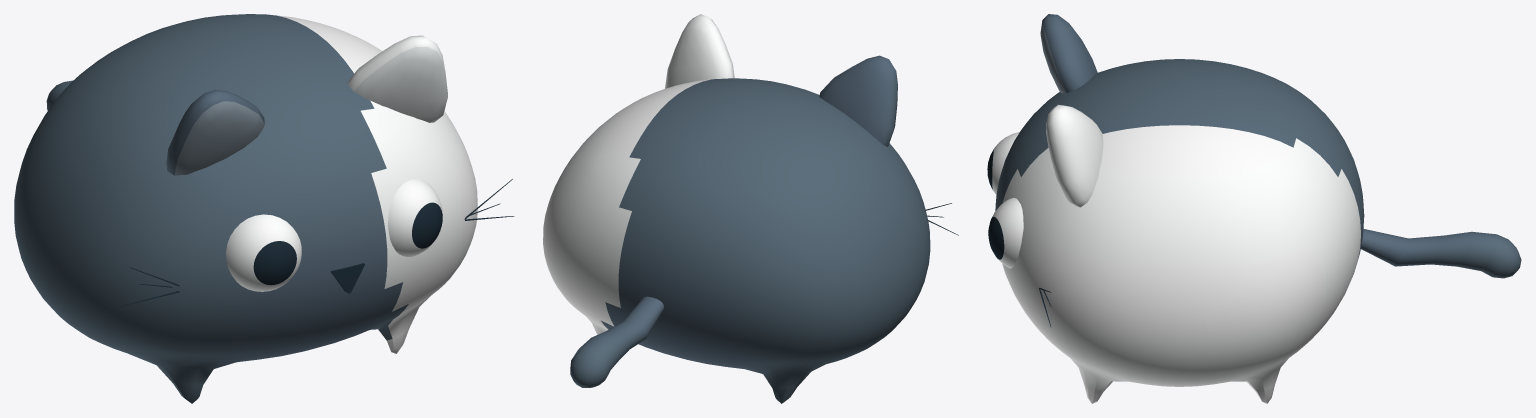
Rendered from Mia.glb.
3 views of the same model, side by side, from view 1: azimuth 30°, elevation 25°; view 2: azimuth 150°, elevation 25°; view 3: azimuth 270°, elevation 25° (orthographic). The views are drawn at different scales.
Parts seen in each view (by area): view 1: Corpo, OrelhaD, OrelhaE; view 2: Corpo, OrelhaE, Calda, OrelhaD; view 3: Corpo, Calda, OrelhaD, OrelhaE.
Part boxes in pixels (x1,y1,x2,y2): Corpo: (14,14,514,403); OrelhaD: (348,35,447,122); OrelhaE: (166,89,264,175); Corpo: (543,78,958,403); OrelhaE: (819,55,897,146); Calda: (570,296,664,387); OrelhaD: (665,14,734,88); Corpo: (987,59,1364,403); Calda: (1361,229,1521,278); OrelhaD: (1046,104,1103,207); OrelhaE: (1040,14,1097,93).
Bounding box in the file's own units: 1.41 × 1.11 × 1.8.
1 material, 1 textured.
